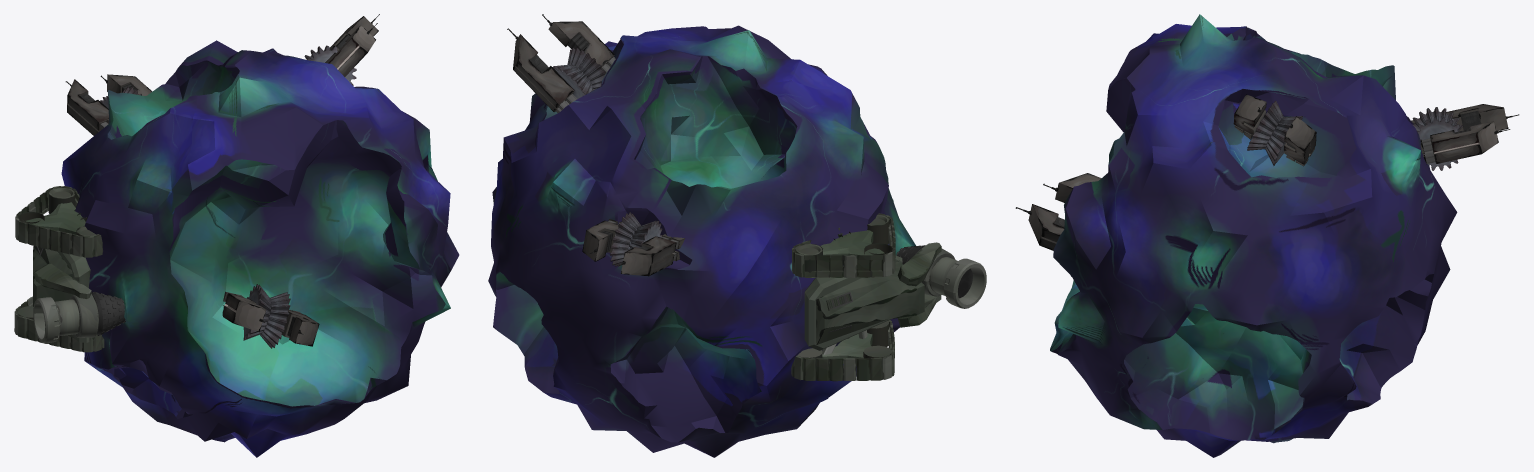
Rendered from planet_Crystal_surface_iteration_3.gltf.
The picture shows the model from 3 angles, left to right: view 1: azimuth 30°, elevation 25°; view 2: azimuth 150°, elevation 25°; view 3: azimuth 270°, elevation 25°; orthographic projection. The views are drawn at different scales.
Parts seen in each view (by area): view 1: planet_crystal_factory.003; view 2: planet_crystal_factory.003; view 3: planet_crystal_factory.003.
Part boxes in pixels (x1,y1,x2,y2): planet_crystal_factory.003: [14, 14, 459, 457]; planet_crystal_factory.003: [488, 14, 986, 457]; planet_crystal_factory.003: [1015, 14, 1519, 457].
Size of the model in its own units: 13.24 by 11.01 by 12.71.
Materials: 6 (6 with a texture image).
